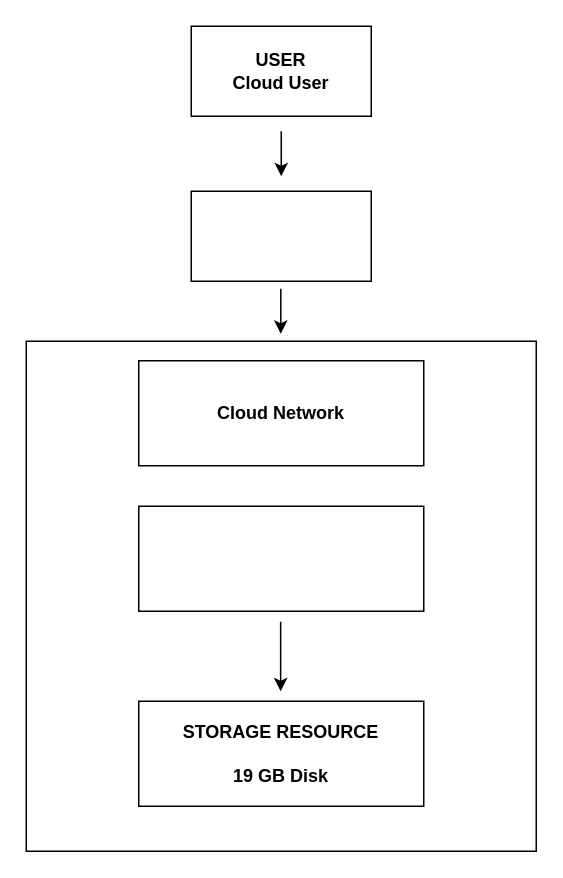
Image size: 563x878. Some labels were removed from this diagram. Each missing label, with the centre of its shape:
"COMPUTE RESOURCE Linux Server 1 CPU Core" goes at (280,558).
"INTERNET Connection" goes at (280,235).
